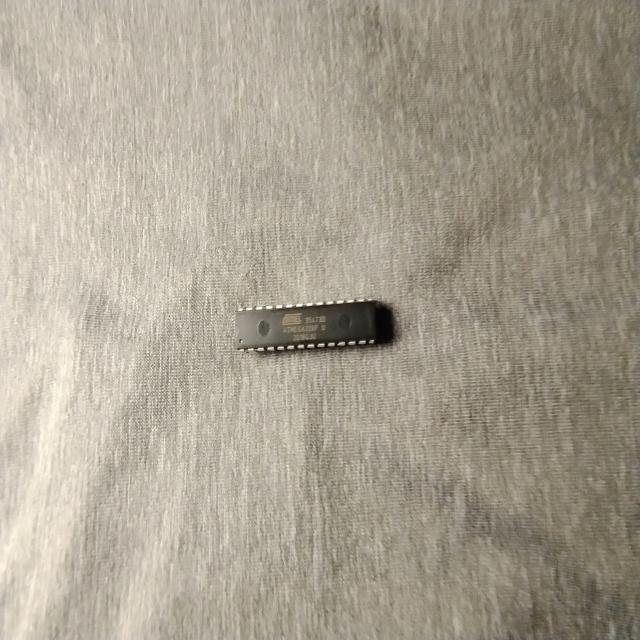atmega: (232, 296, 380, 356)
